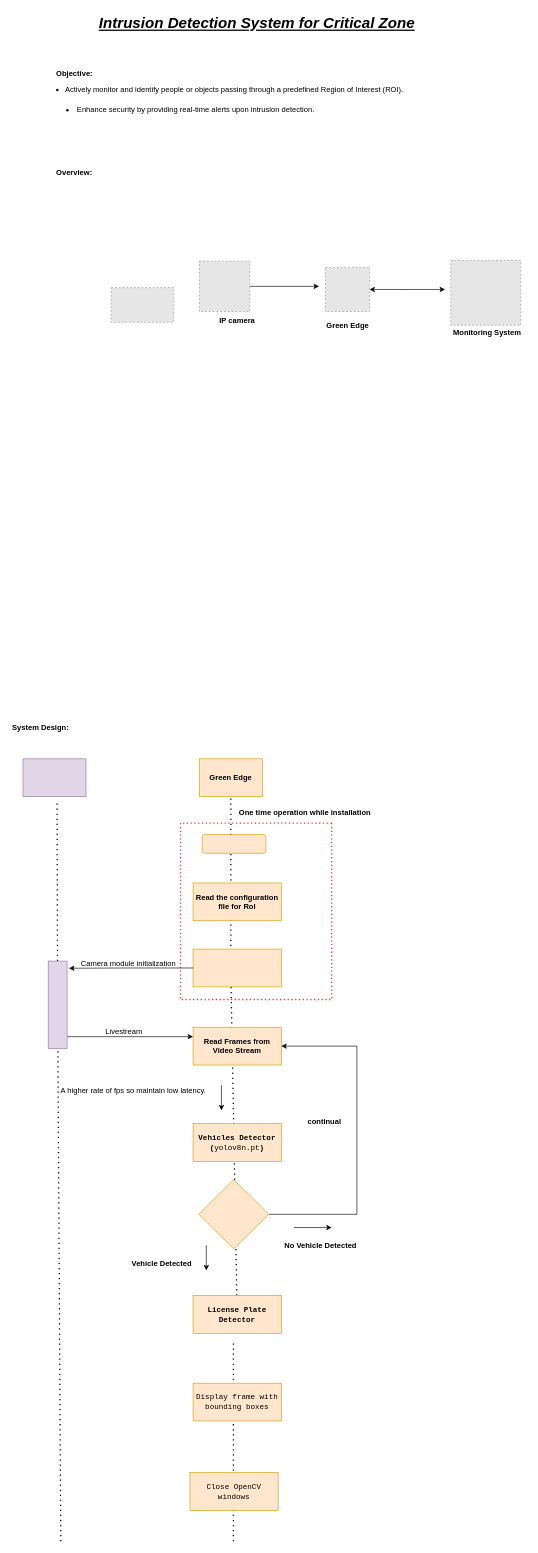
This 538x1553 diagram has some shape labels left out. Grey dashed boxes stand in for pictures. Here are the shapes that lost their labels. From the top down, the centre of each, then its label:
(54,777): Camera
(234,843): Start
(236,967): Establish the connection with Data Source (Camera)
(233,1214): Validating Vehicle
